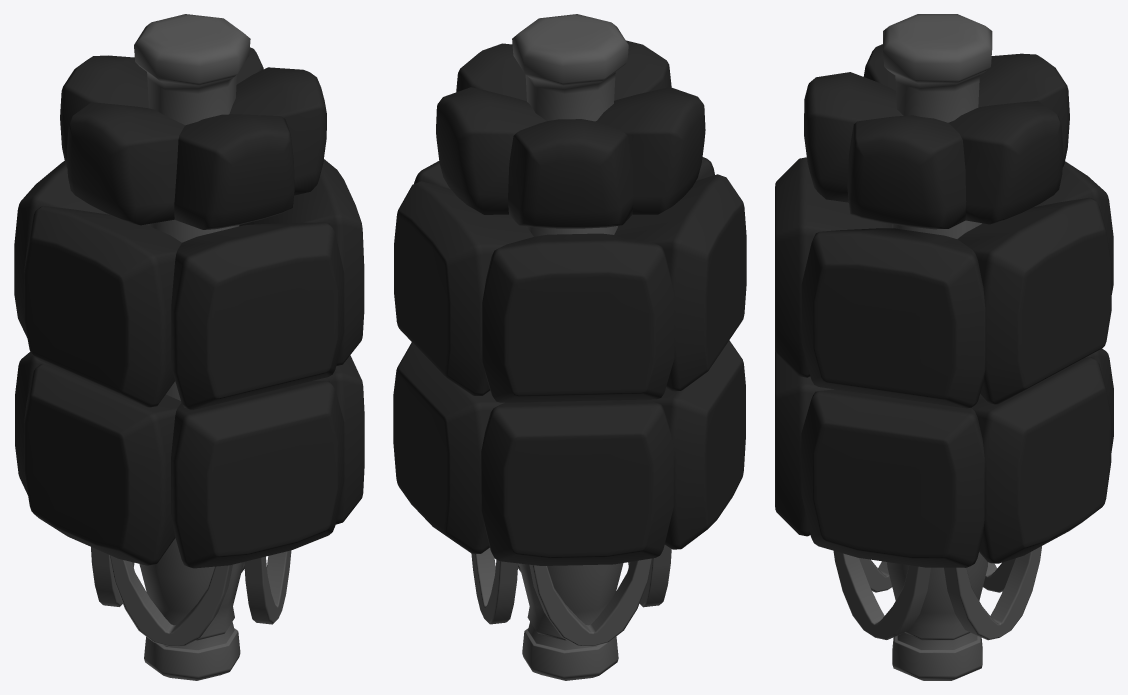
File: _Grenade_01.fbx
3 views of the same model, side by side, from view 1: azimuth 30°, elevation 25°; view 2: azimuth 150°, elevation 25°; view 3: azimuth 270°, elevation 25° (orthographic).
Visible parts, largest first — view 1: Grenade_01; view 2: Grenade_01; view 3: Grenade_01.
Part boxes in pixels (left/top/right/bottom): Grenade_01: left=14, top=14, right=364, bottom=680; Grenade_01: left=393, top=14, right=746, bottom=680; Grenade_01: left=775, top=14, right=1113, bottom=680.
Bounding box in the file's own units: 62.33 × 124 × 59.87.
1 material, 1 textured.
